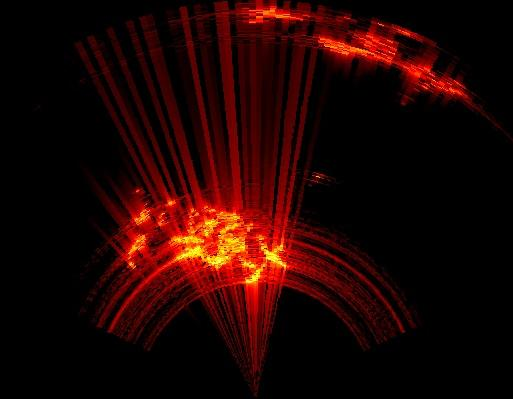shipwreck: (317, 25, 467, 102), (169, 206, 251, 268), (243, 3, 316, 21), (257, 235, 285, 267), (126, 233, 148, 267), (157, 199, 176, 226), (243, 260, 263, 281), (133, 207, 153, 226)
